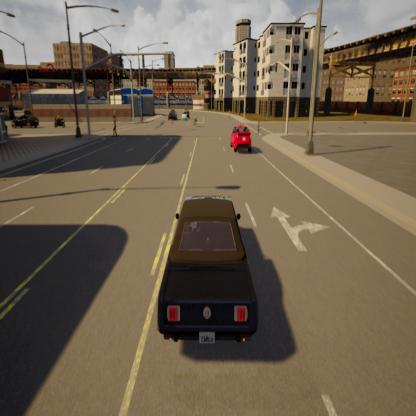Cars: (156, 191, 258, 351), (230, 122, 252, 158), (13, 112, 40, 130), (53, 111, 68, 129)
Pedestrian: (110, 112, 117, 138), (257, 118, 261, 136)
